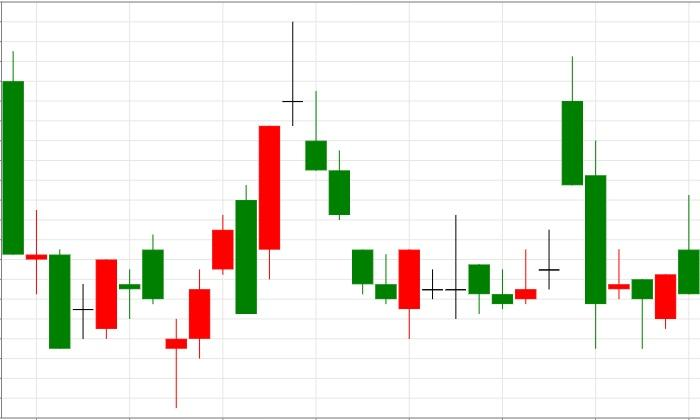bullish_engulfing_rise: (281, 19, 420, 339)
evening_star_fall: (166, 20, 327, 408)
